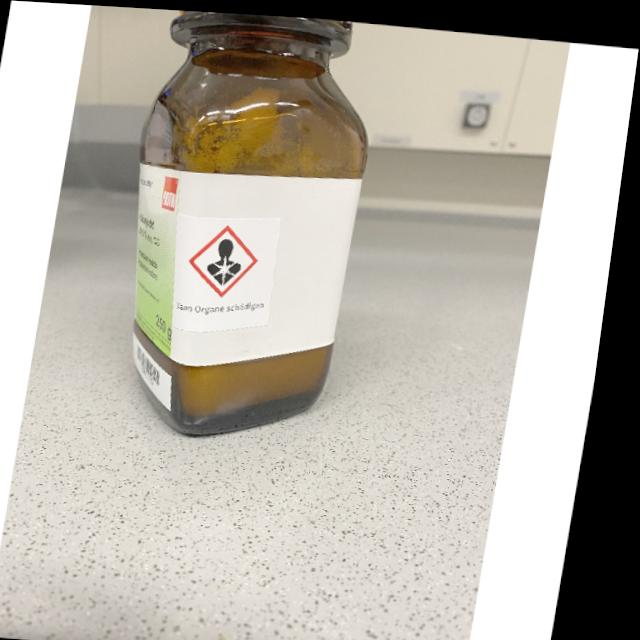serious health hazard: (211, 234, 252, 284)
